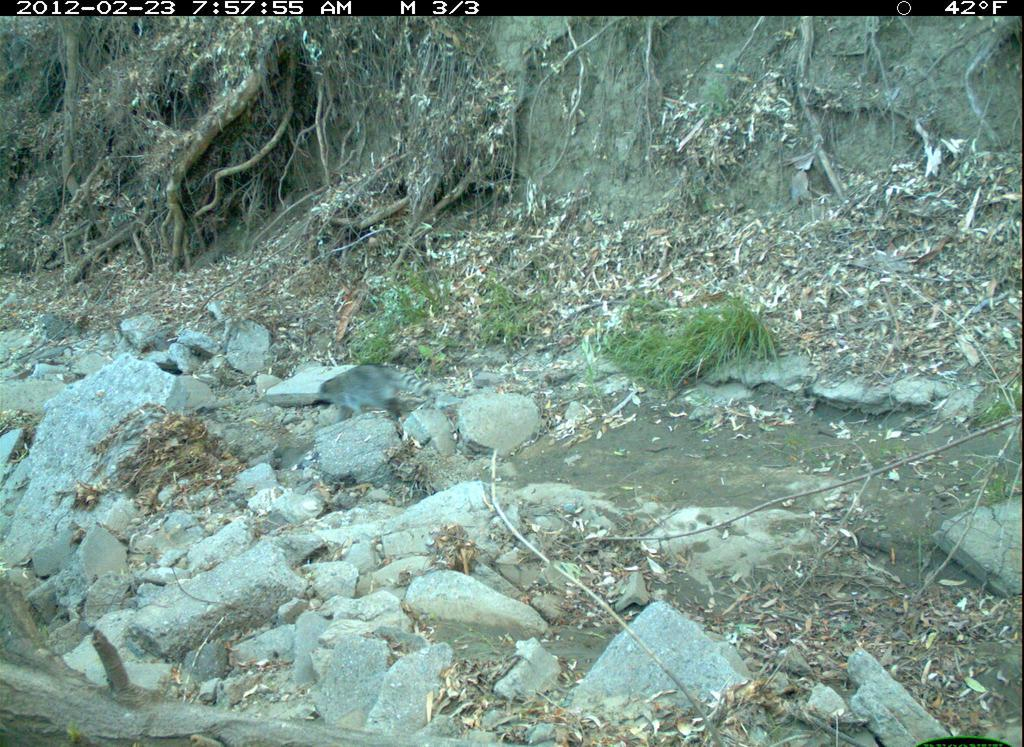raccoon: (319, 361, 436, 425)
